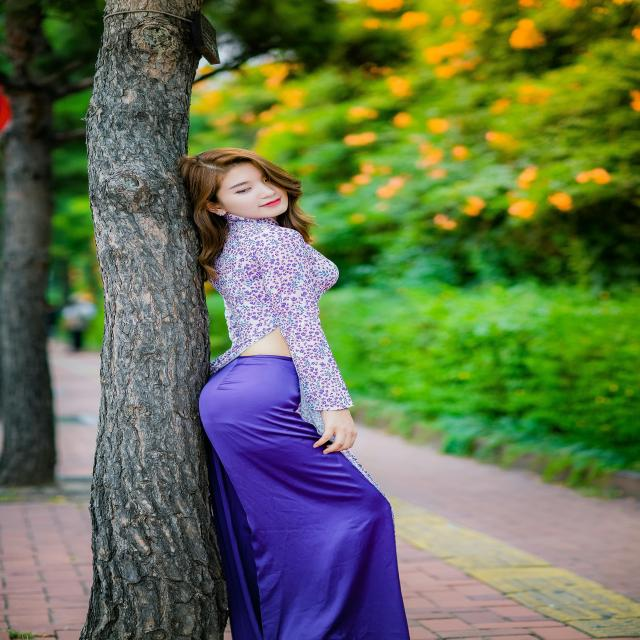stand: (184, 141, 443, 640)
